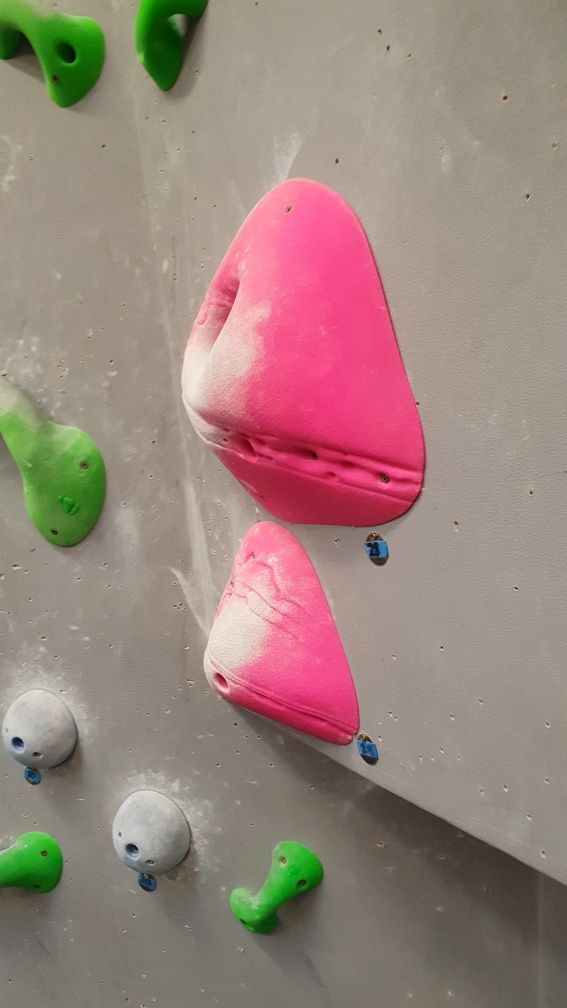Hand Start: (355, 734, 383, 771), (361, 531, 392, 564), (18, 768, 49, 792), (135, 866, 156, 891)
Pocket: (173, 178, 428, 527)
Sloper: (114, 790, 196, 875), (4, 684, 81, 769)
